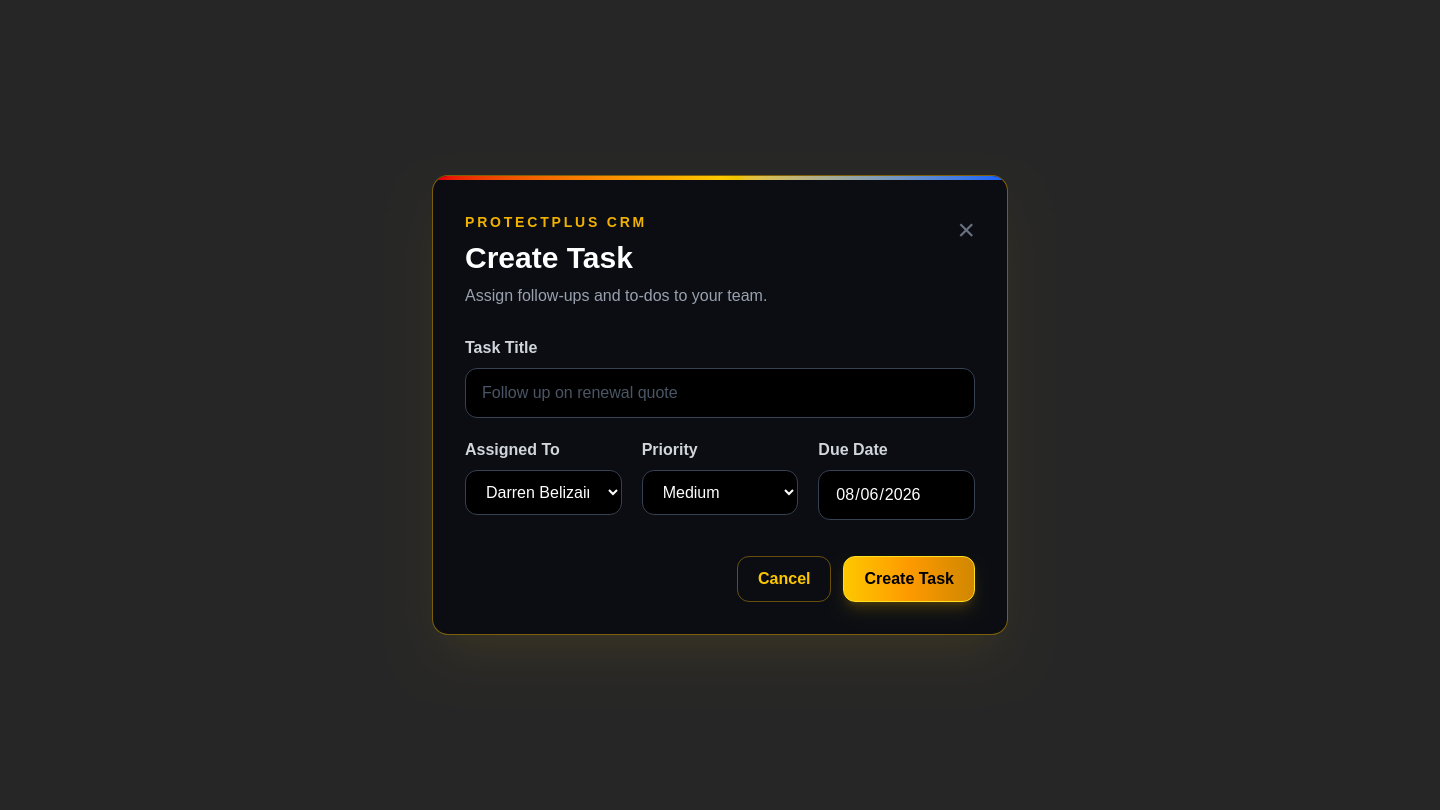
Test: TaskModal › clears the form when closed via the × button
Type "Temp Value" into the field with placeholder "Follow up on renewal quote" at point(720, 393), box top-left (465, 368), bottom-right (975, 418)
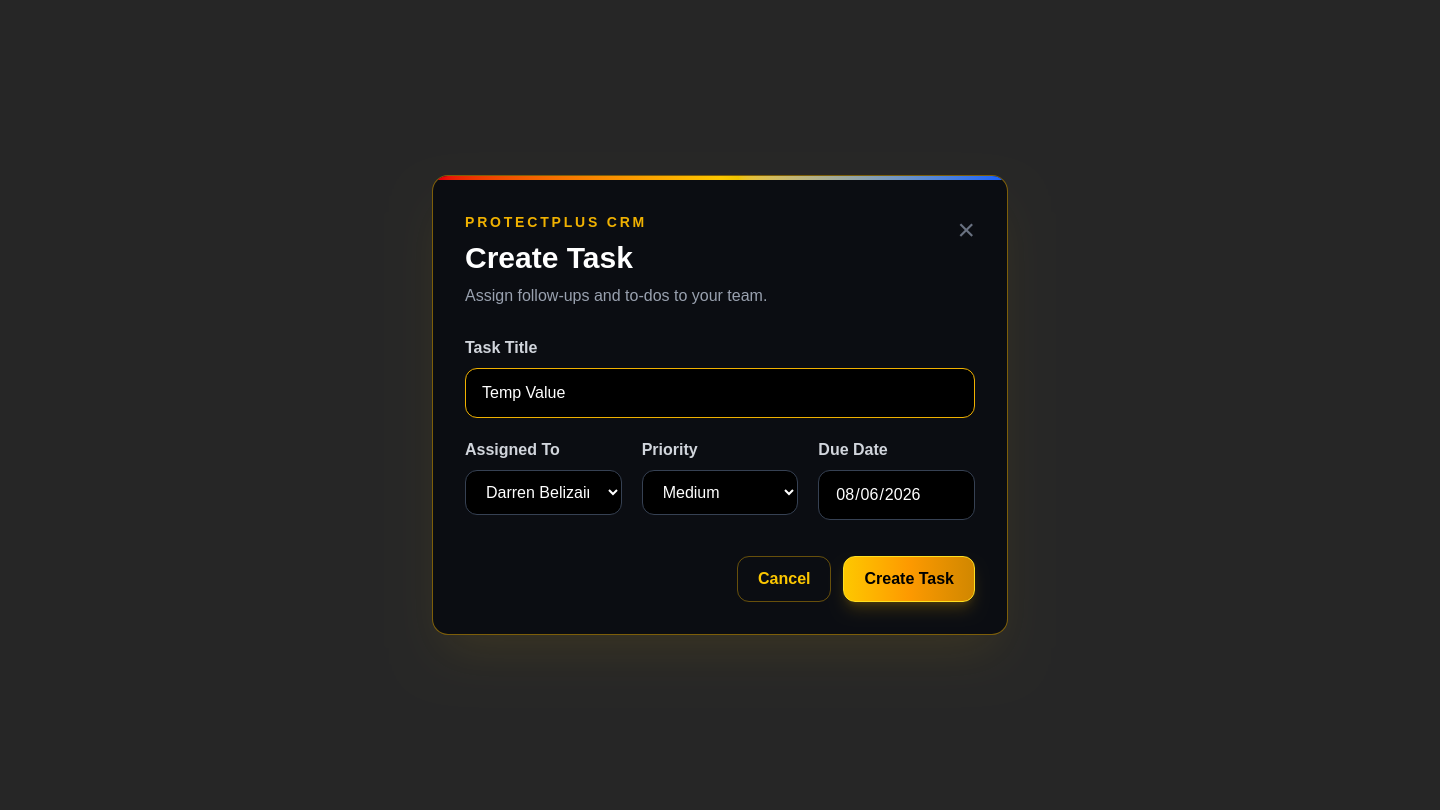
Click the button "×" at point(966, 230), box top-left (958, 212), bottom-right (975, 248)
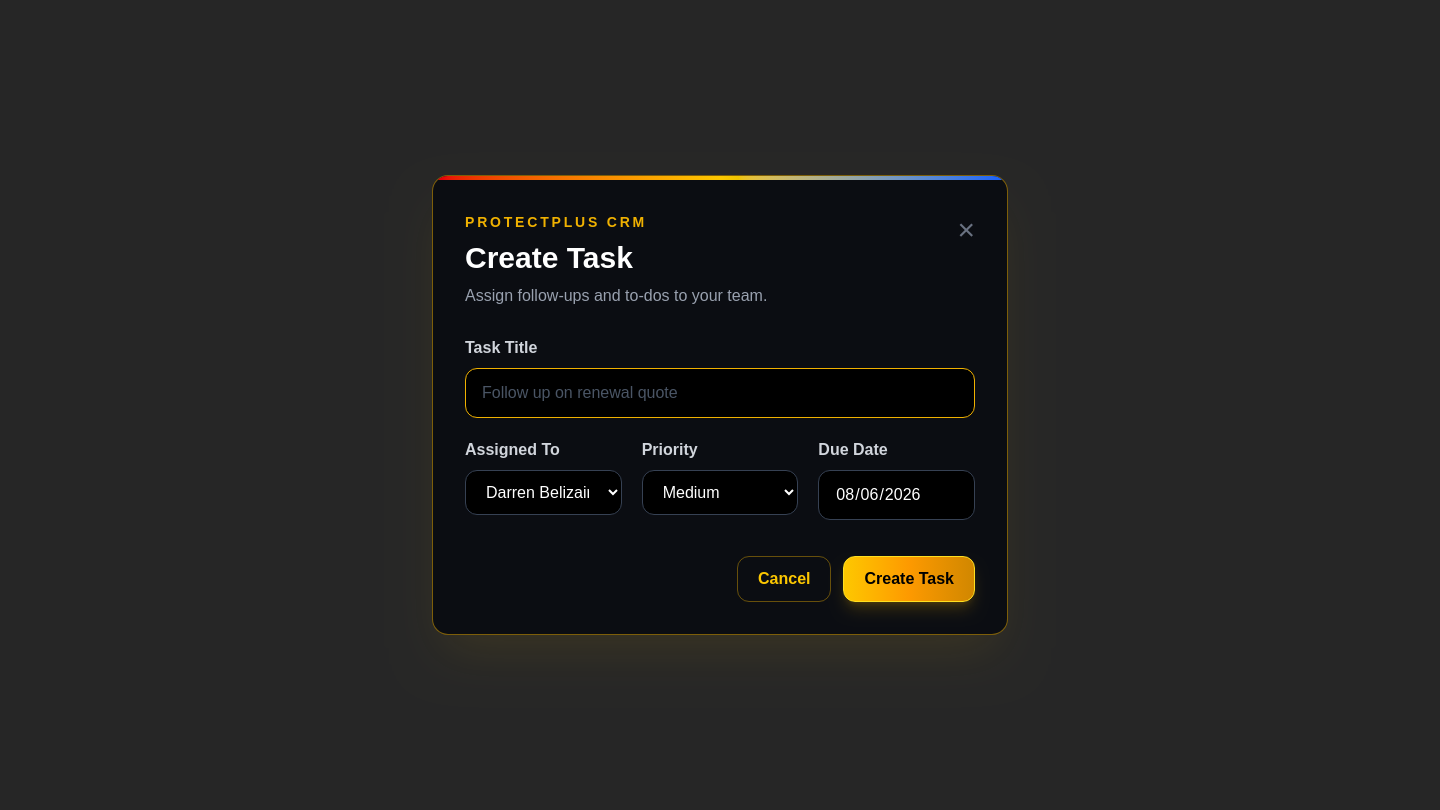
Result: the field with placeholder "Follow up on renewal quote" is empty at top-left (465, 368), bottom-right (975, 418)
